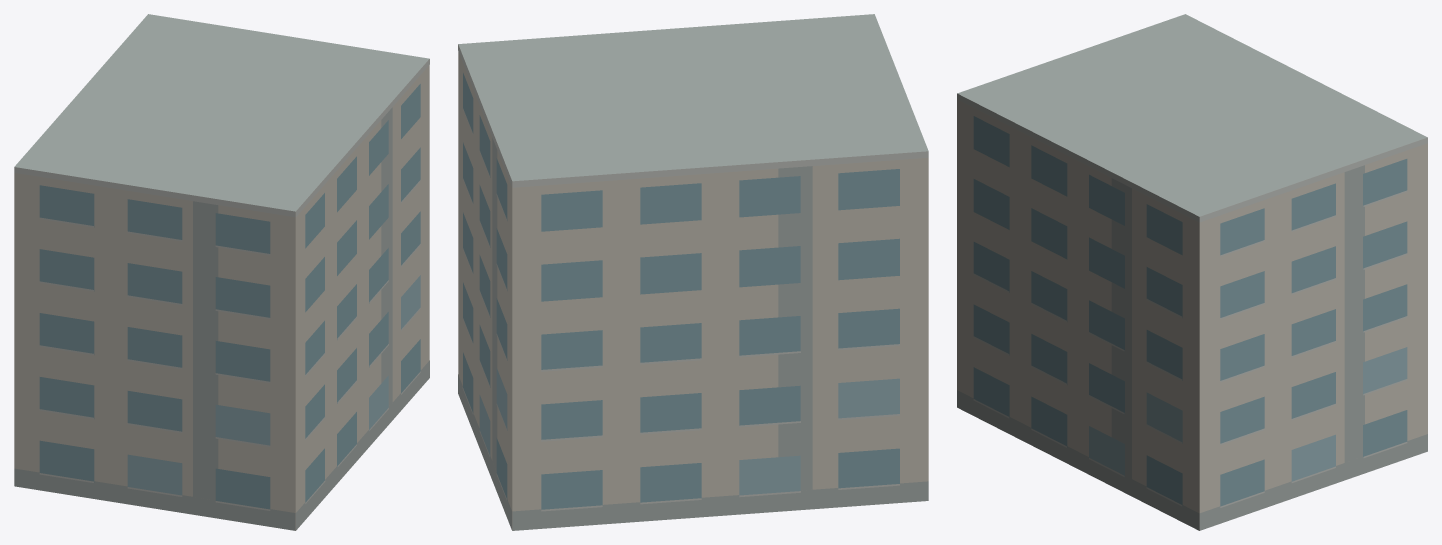
Rendered from survey-upis-32848846.glb.
3 renders of one model, left to right at view 1: azimuth 30°, elevation 25°; view 2: azimuth 150°, elevation 25°; view 3: azimuth 270°, elevation 25°, orthographic. The views are drawn at different scales.
Visible parts, largest first — view 1: survey-upis-32848846.tmp; view 2: survey-upis-32848846.tmp; view 3: survey-upis-32848846.tmp.
Boxes of the visible parts, box(x1,y1,x2,y2) form: survey-upis-32848846.tmp: box(14, 14, 429, 530); survey-upis-32848846.tmp: box(458, 14, 928, 530); survey-upis-32848846.tmp: box(957, 14, 1427, 530).
Bounding box in the file's own units: 18.29 × 13.2 × 17.94.
